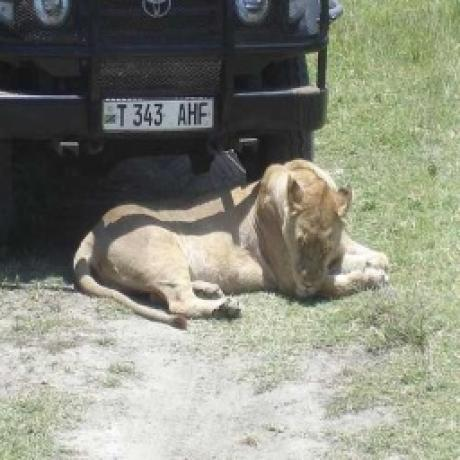Lion: (67, 154, 401, 332)
